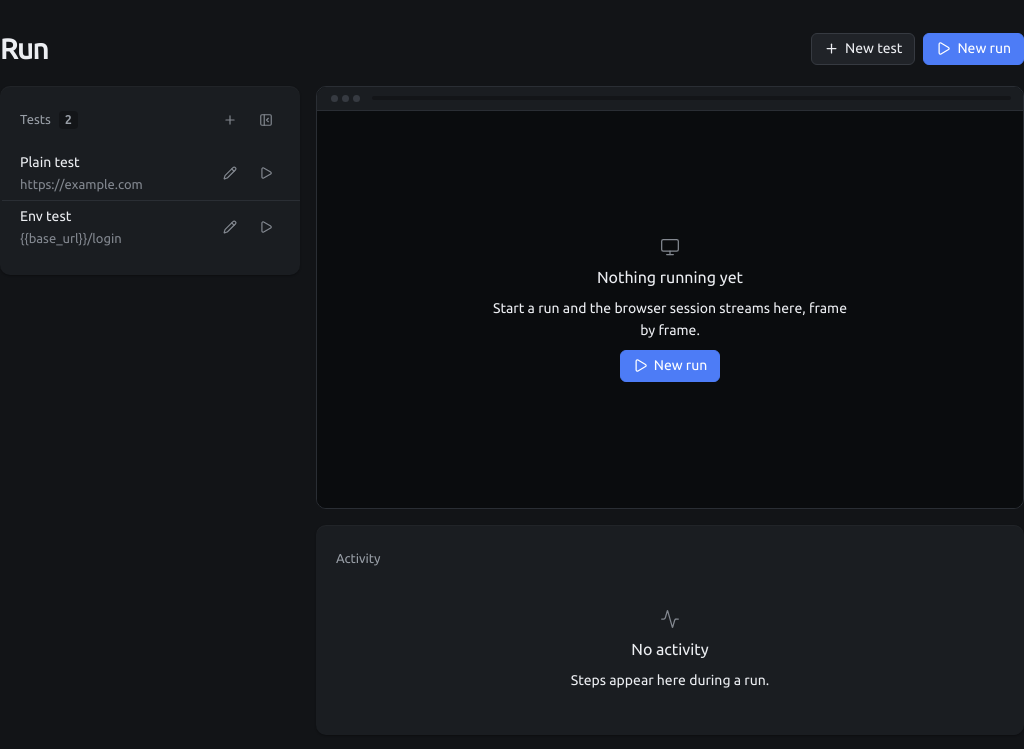
Scenario: RunView stopping a run (US-047) › says a queued run was stopped before it ever started
Click the button named "Run \"Plain test\"" at (266, 173), box left=252, top=159, right=280, bottom=187
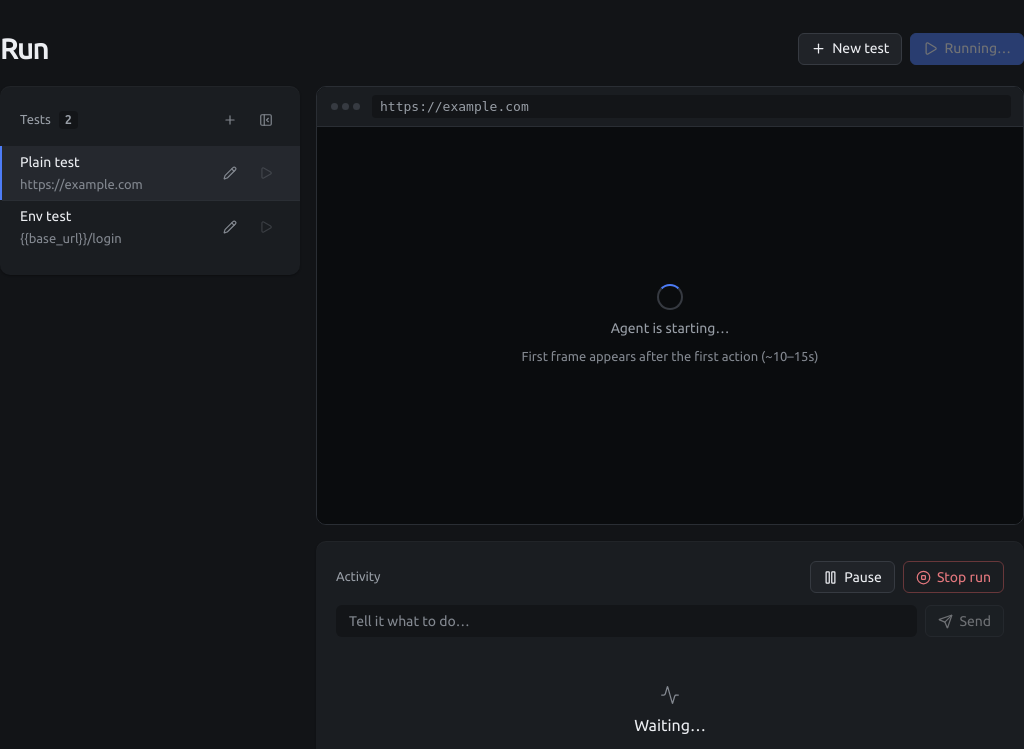
Click the button "Stop run" at (953, 577), box left=903, top=561, right=1004, bottom=593
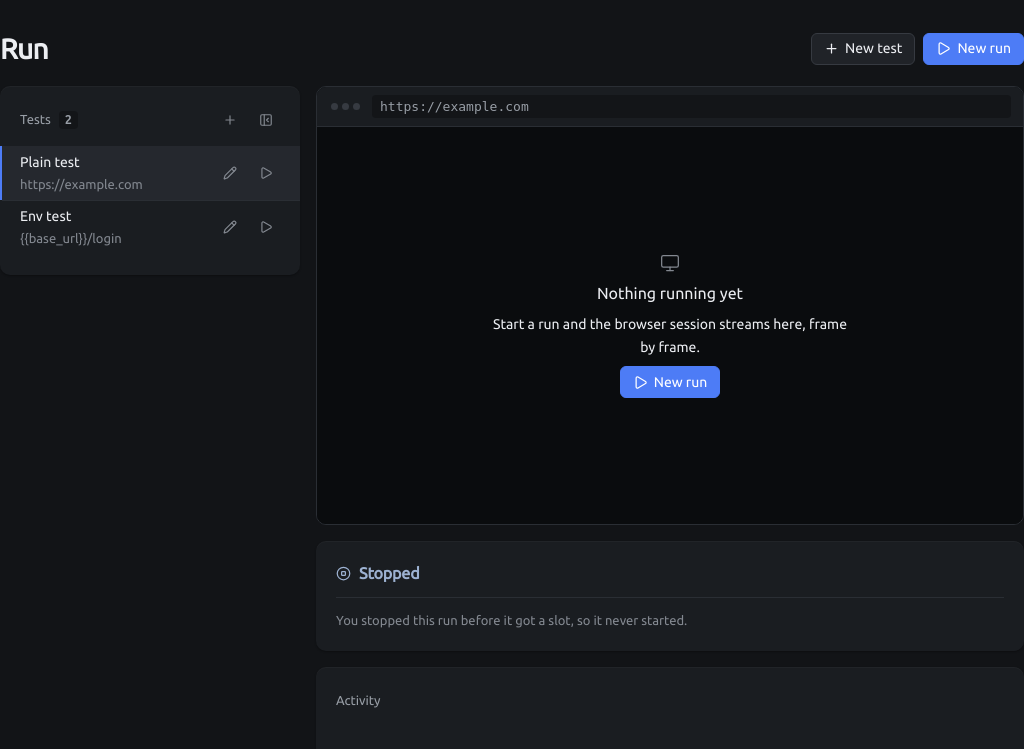
Result: the text "Stopped" is shown at left=336, top=564, right=420, bottom=582
Result: the text "never started" is shown at left=336, top=613, right=687, bottom=627
